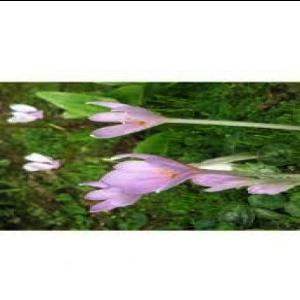Saffron: (105, 154, 204, 192), (86, 99, 165, 136)
